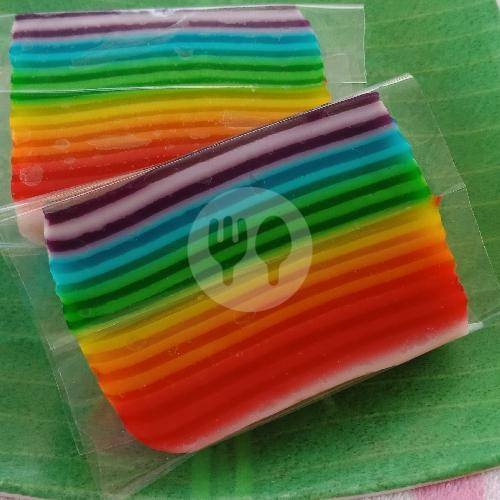kue_lapis_pelangi: (46, 91, 470, 453)
